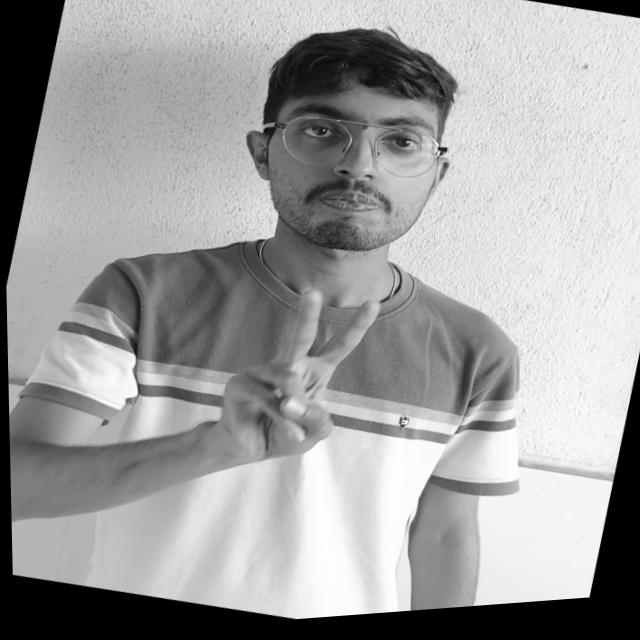Victory: (170, 254, 421, 512)
